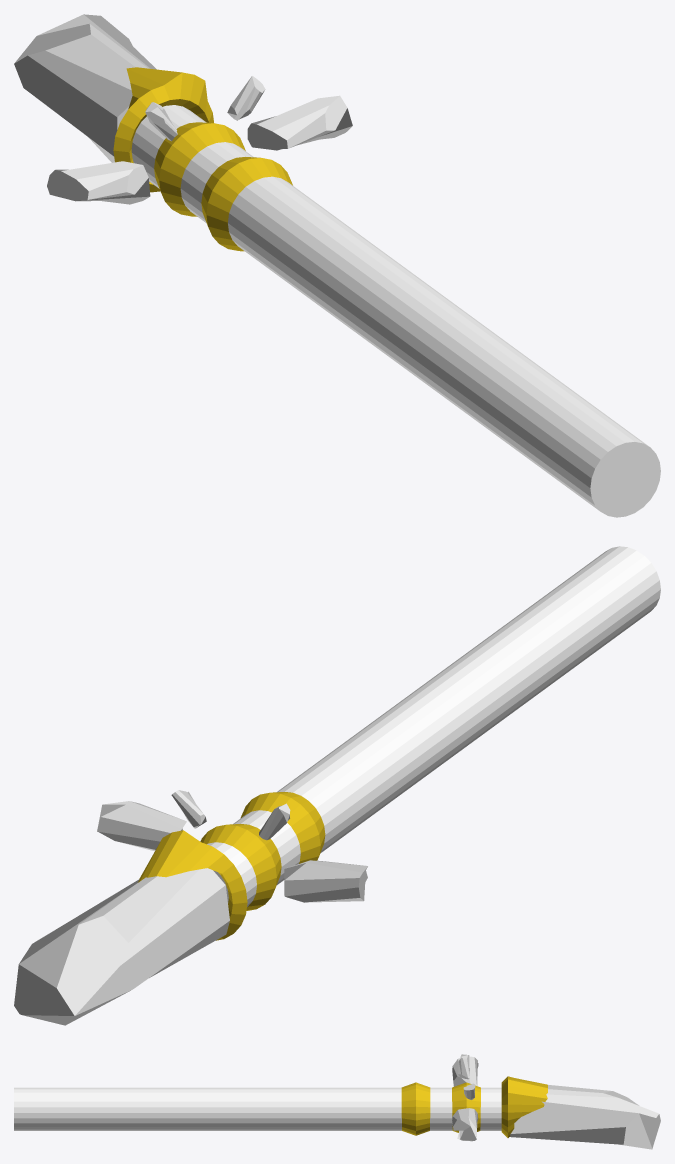
Rendered from sniper.fbx.
The picture shows the model from 3 angles, top to bottom: view 1: azimuth 30°, elevation 25°; view 2: azimuth 150°, elevation 25°; view 3: azimuth 270°, elevation 25°; orthographic projection. The views are drawn at different scales.
Visible parts, largest first — view 1: Cylinder.005, Cube, Torus.003, Cube.004, Cube.002, Torus.001, Torus.004, Cube.005; view 2: Cylinder.005, Cube, Torus.003, Cube.002, Cube.004, Torus.004, Torus.001; view 3: Cylinder.005, Cube, Torus.003, Torus.001, Cube.004, Torus.004, Cube.002, Cube.003.
Part boxes in pixels (x1,y1,x2,y2): Cylinder.005: (131, 105, 660, 517); Cube: (14, 14, 156, 162); Torus.003: (113, 67, 213, 192); Cube.004: (247, 95, 352, 150); Cube.002: (47, 161, 150, 204); Torus.001: (201, 157, 292, 251); Torus.004: (154, 122, 245, 216); Cube.005: (227, 76, 265, 120); Cylinder.005: (207, 546, 660, 906); Cube: (14, 868, 229, 1025); Torus.003: (138, 830, 247, 940); Cube.002: (284, 860, 367, 902); Cube.004: (97, 801, 186, 851); Torus.004: (200, 824, 281, 910); Torus.001: (240, 792, 325, 863); Cylinder.005: (14, 1087, 501, 1130); Cube: (510, 1085, 660, 1149); Torus.003: (501, 1076, 547, 1137); Torus.001: (401, 1082, 430, 1135); Cube.004: (452, 1108, 478, 1141); Torus.004: (452, 1082, 480, 1132); Cube.002: (452, 1056, 478, 1086); Cube.003: (458, 1054, 469, 1079).
Size of the model in its own units: 24.95 by 10.53 by 90.32.
